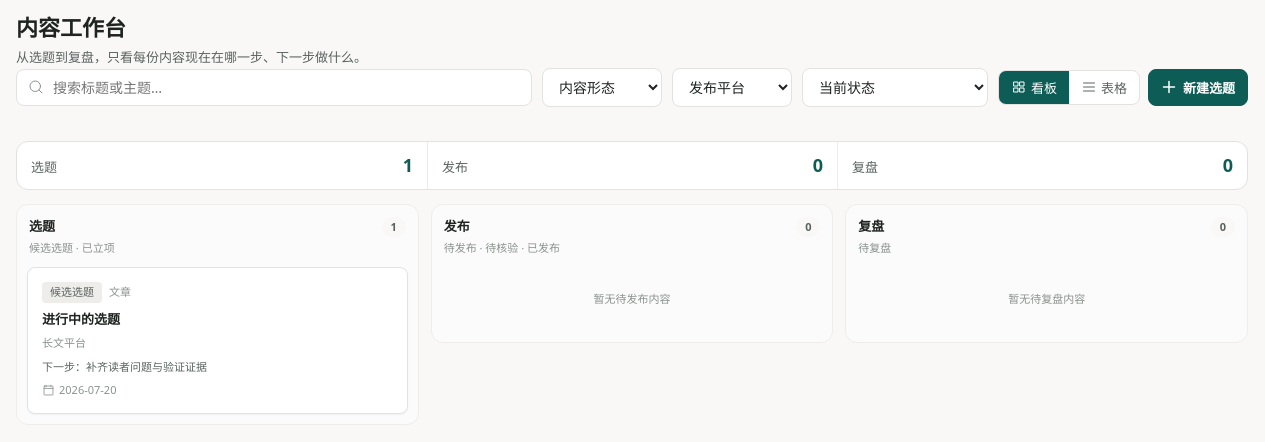
Test: 内容工作台 2.0 › 默认工作台和摘要排除归档，选择已归档后进入专门列表
Expected: the heading "进行中的选题" is shown, [42, 310, 120, 328]
Expected: the text "已经归档的选题" is not shown
Select "已归档（可恢复）" in the dropdown named "当前状态" at (895, 87), box [802, 68, 988, 106]
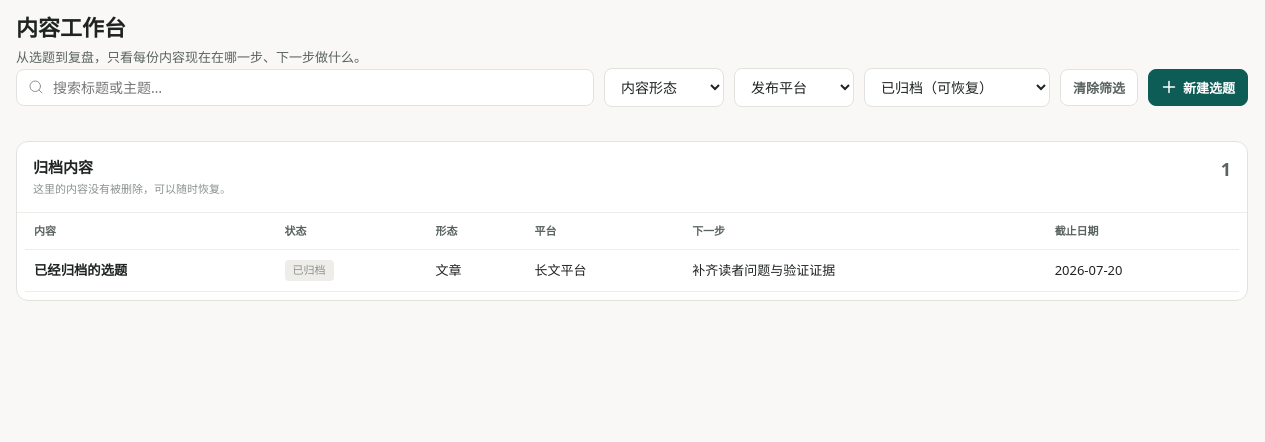
Now the heading "归档内容" is shown, box [33, 156, 93, 176]
Now the button "已经归档的选题" is shown, box [34, 260, 127, 279]
Now the button "进行中的选题" is gone
